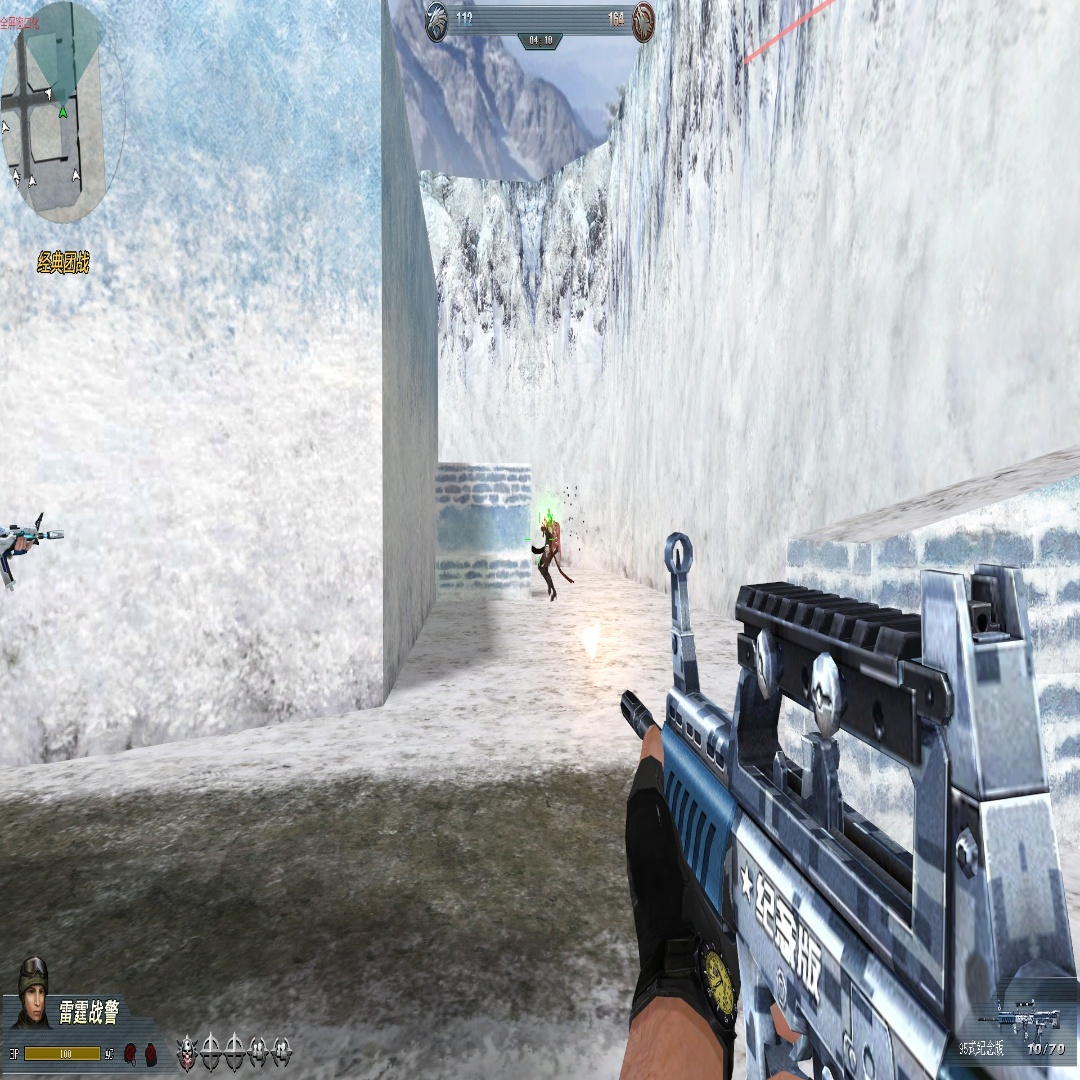t: (539, 511, 556, 603)
